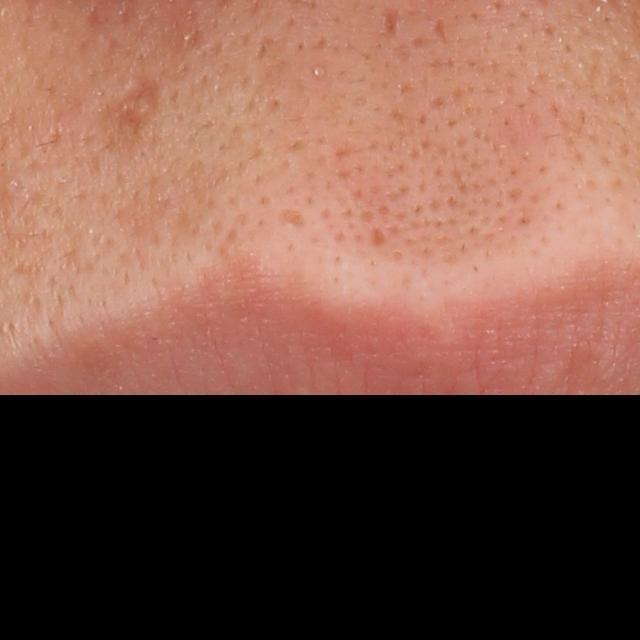atrophic_scar: (98, 71, 171, 154), (278, 206, 312, 230), (381, 9, 403, 39), (431, 17, 448, 49)
